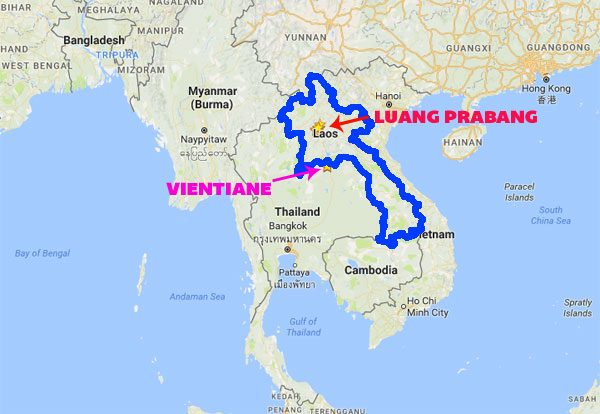Island: (544, 285, 600, 330), (493, 172, 539, 206)
